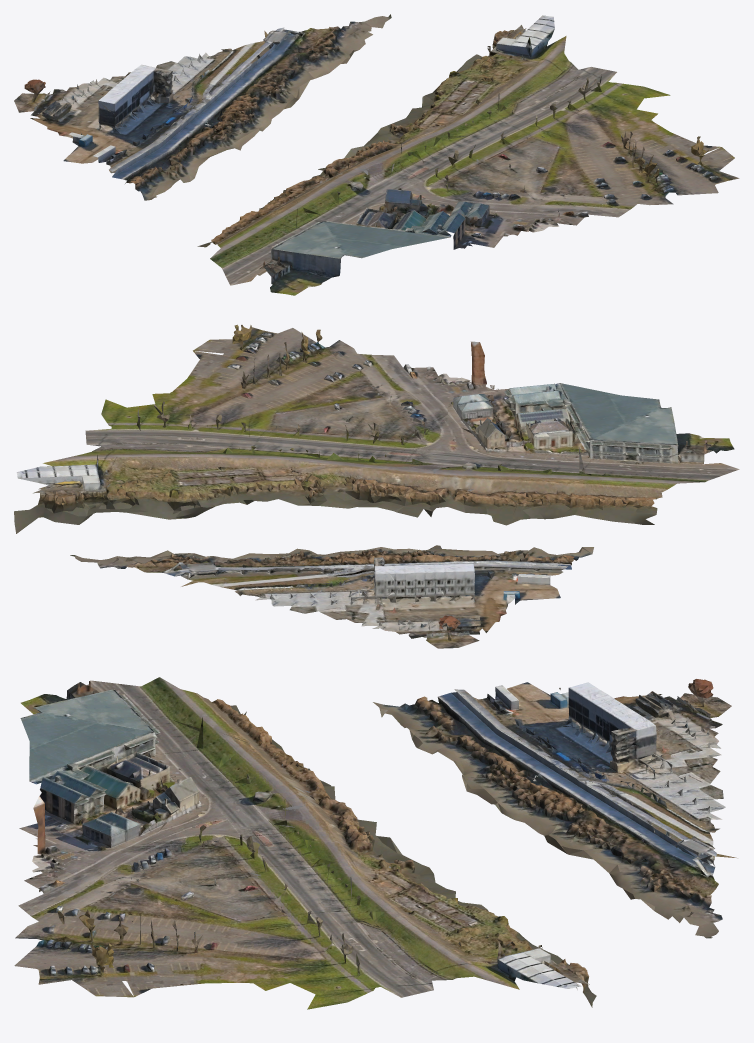
The model's file is Tile_012_012_L18.gltf.
3 renders of one model, top to bottom at view 1: azimuth 30°, elevation 25°; view 2: azimuth 150°, elevation 25°; view 3: azimuth 270°, elevation 25°, orthographic. The views are drawn at different scales.
Visible parts, largest first — view 1: Tile_+012_+012_L18; view 2: Tile_+012_+012_L18; view 3: Tile_+012_+012_L18.
Part boxes in pixels (x1,y1,x2,y2): Tile_+012_+012_L18: (14, 14, 739, 295); Tile_+012_+012_L18: (14, 324, 739, 648); Tile_+012_+012_L18: (14, 677, 738, 1009).
Size of the model in its own units: 235 by 31.41 by 218.
1 material, 1 textured.
